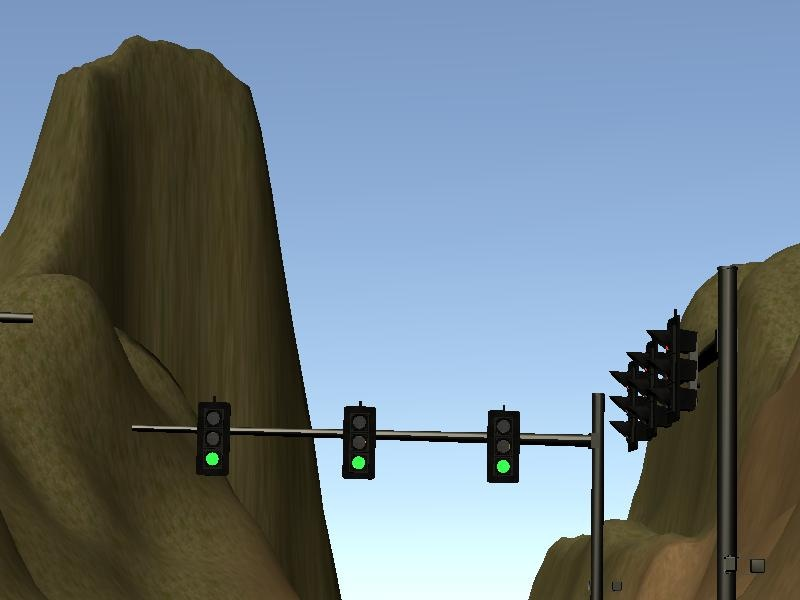green: (483, 411, 522, 488), (196, 399, 230, 481), (342, 405, 378, 482)
